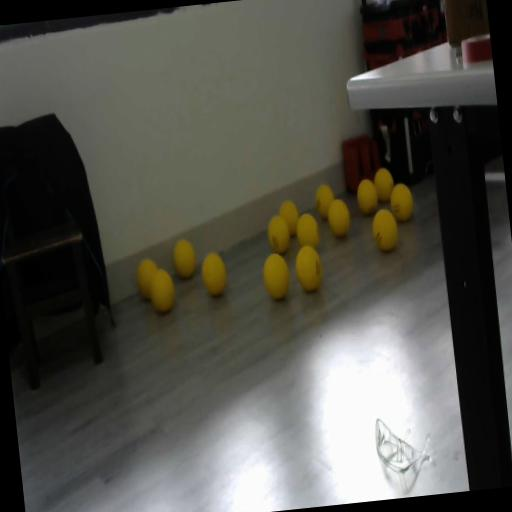FUEL: (260, 250, 292, 302), (293, 242, 324, 293), (198, 249, 229, 299), (370, 207, 400, 253), (134, 256, 162, 302), (294, 210, 322, 252), (388, 182, 415, 223), (172, 238, 198, 280), (326, 197, 352, 238), (278, 198, 302, 238), (355, 178, 380, 216), (372, 166, 396, 203)
